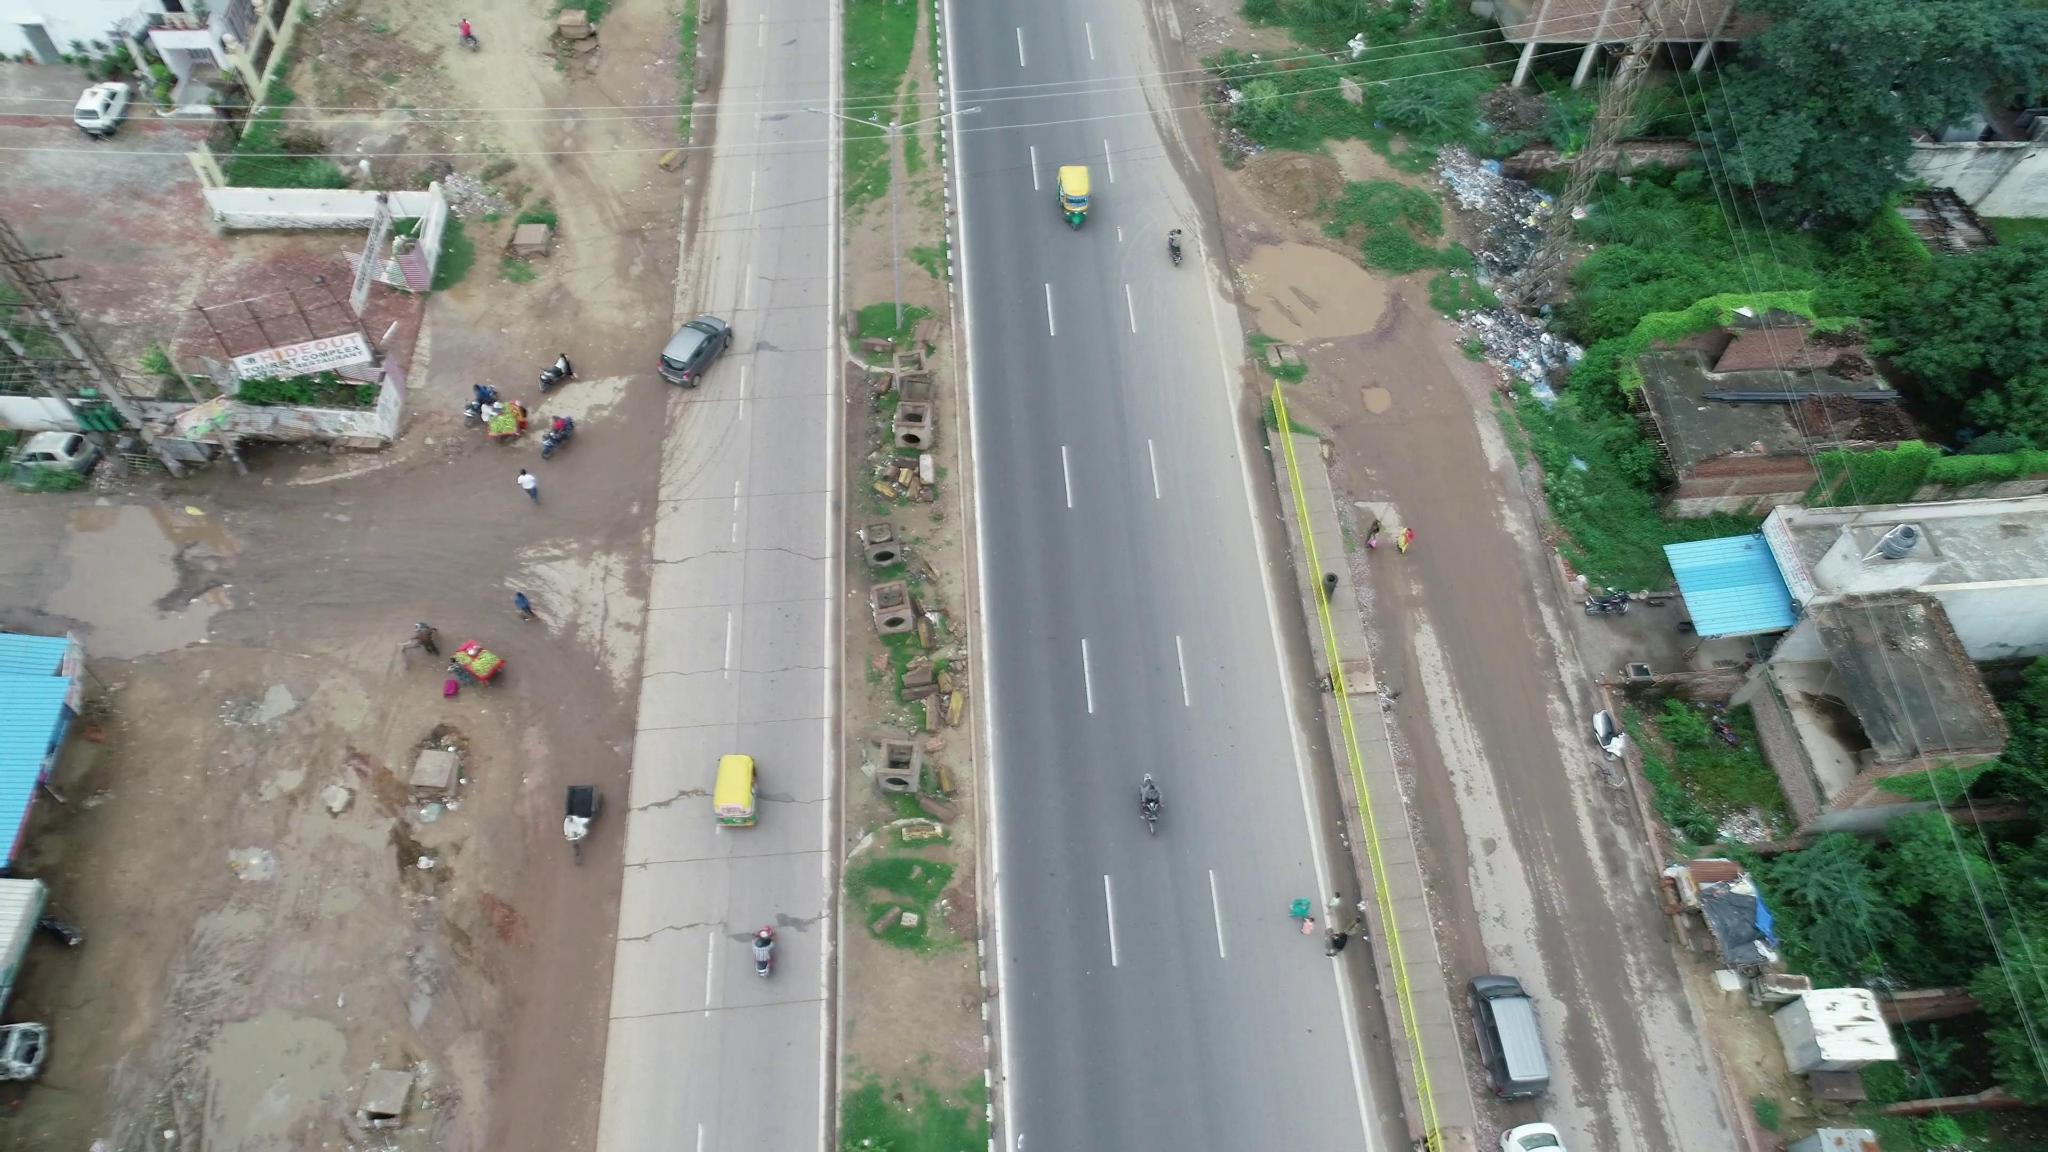Potholes: (1350, 370, 1401, 440)
Road_side_garbage: (1442, 148, 1566, 385)
